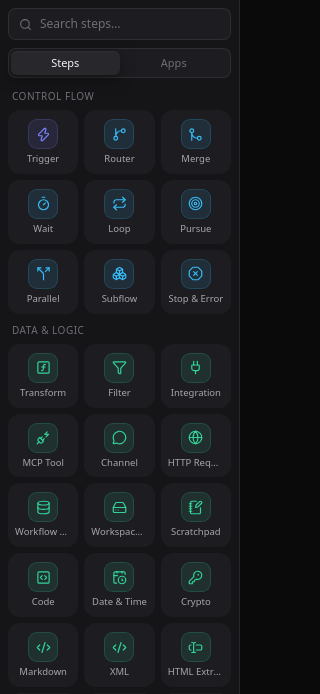
Test: <NodePalette /> › filters steps by search query
This screenshot has width=320, height=694.
Type "router" into the search field with placeholder "Search steps…" at point(130, 24), box 40,16 -> 220,32
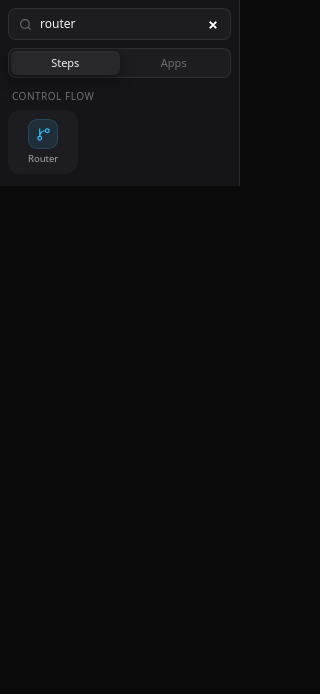
Expected: the text "Router" is shown, 28,152 -> 58,165
Now the button "Trigger" is gone
